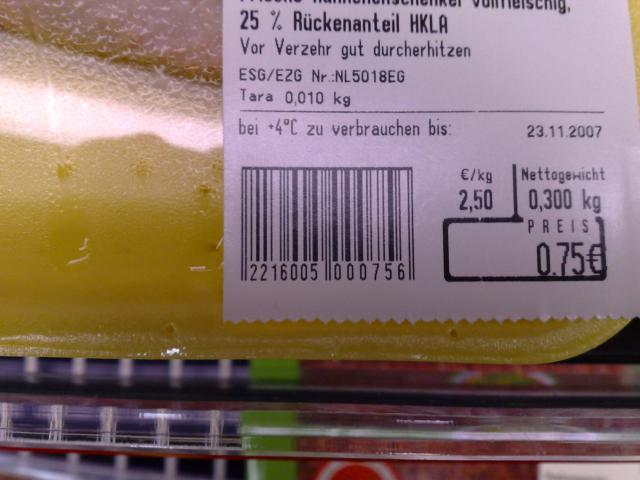Barkod: (237, 167, 415, 263)
